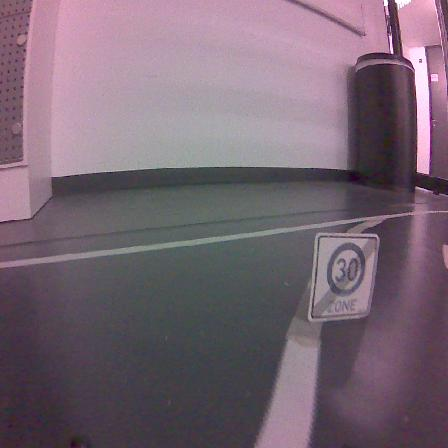30_ZONE_END: (308, 233, 379, 321)
